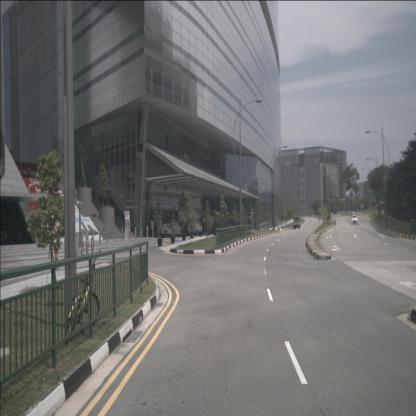human-pedestrian-adult: (150, 218, 155, 237)
vehicle-bicycle: (62, 248, 102, 346)
vehicle-car: (161, 219, 182, 238), (186, 217, 202, 236), (351, 214, 358, 224)
vehicle-truck: (293, 216, 301, 229)
